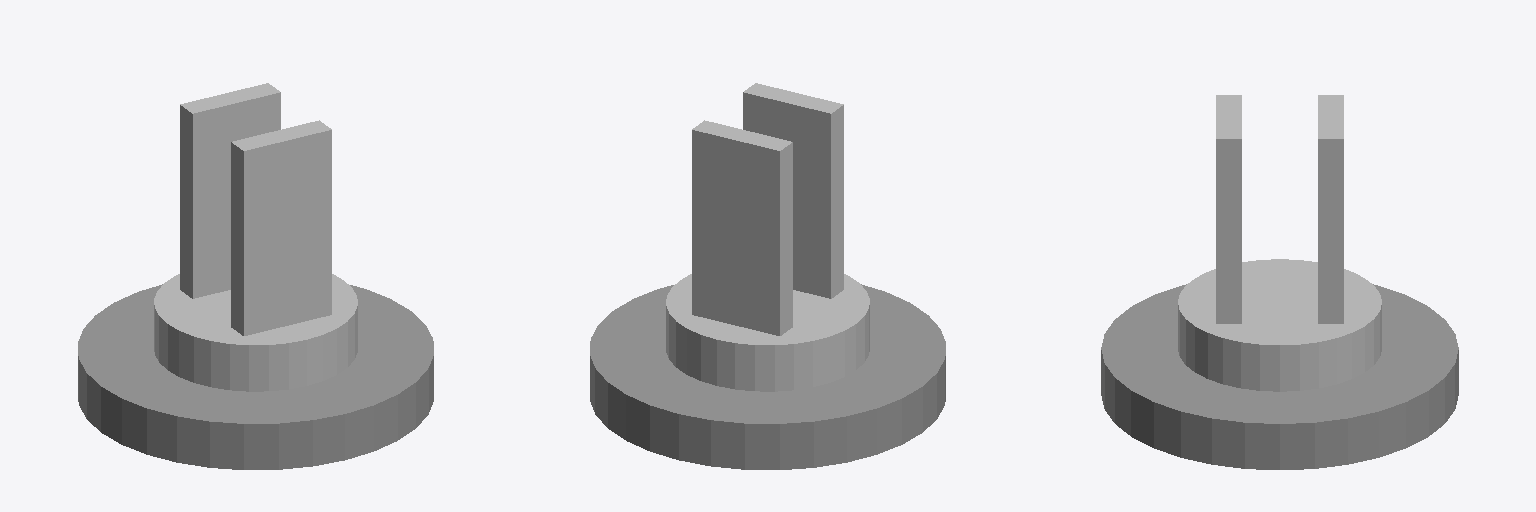
File: harpoonbase.obj
The picture shows the model from 3 angles: view 1: azimuth 30°, elevation 25°; view 2: azimuth 150°, elevation 25°; view 3: azimuth 270°, elevation 25°; orthographic projection.
Parts seen in each view (by area): view 1: Cylinder, Boxxy_Cube.001, CylindeTop_Cylinder.001; view 2: Cylinder, Boxxy_Cube.001, CylindeTop_Cylinder.001; view 3: Cylinder, CylindeTop_Cylinder.001, Boxxy_Cube.001.
Part boxes in pixels (x1,y1,x2,y2): Cylinder: (78,284,433,469); Boxxy_Cube.001: (180,83,331,335); CylindeTop_Cylinder.001: (154,274,357,391); Cylinder: (590,284,945,469); Boxxy_Cube.001: (692,83,843,335); CylindeTop_Cylinder.001: (666,274,869,391); Cylinder: (1101,284,1458,469); CylindeTop_Cylinder.001: (1178,259,1381,391); Boxxy_Cube.001: (1216,95,1343,323).
Size of the model in its own units: 1.75 by 1.5 by 1.75.